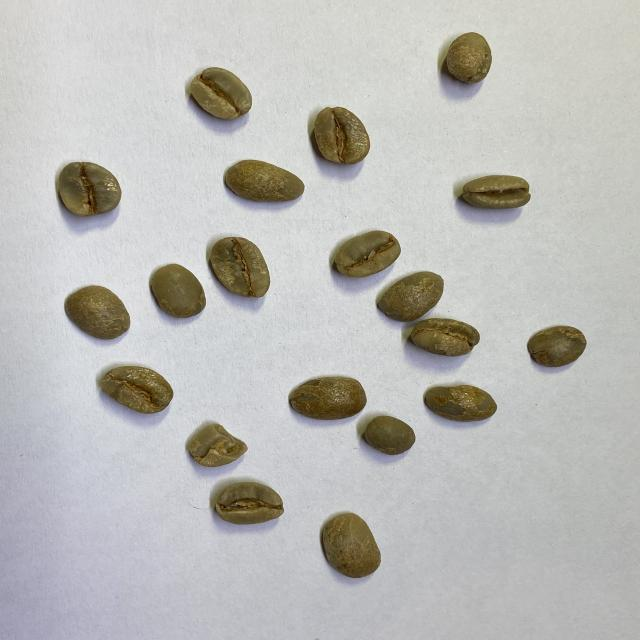bad: (188, 421, 250, 468), (408, 319, 481, 358)
good: (321, 510, 384, 578), (221, 158, 305, 205), (101, 363, 175, 416), (209, 237, 271, 300), (65, 283, 132, 341), (311, 105, 372, 166), (59, 160, 122, 218), (187, 66, 252, 122), (289, 374, 368, 420), (376, 270, 445, 322), (148, 262, 207, 320), (332, 228, 402, 276), (214, 481, 285, 526), (423, 383, 497, 423), (527, 324, 588, 370), (446, 30, 494, 86), (462, 173, 531, 210), (363, 416, 416, 456)
